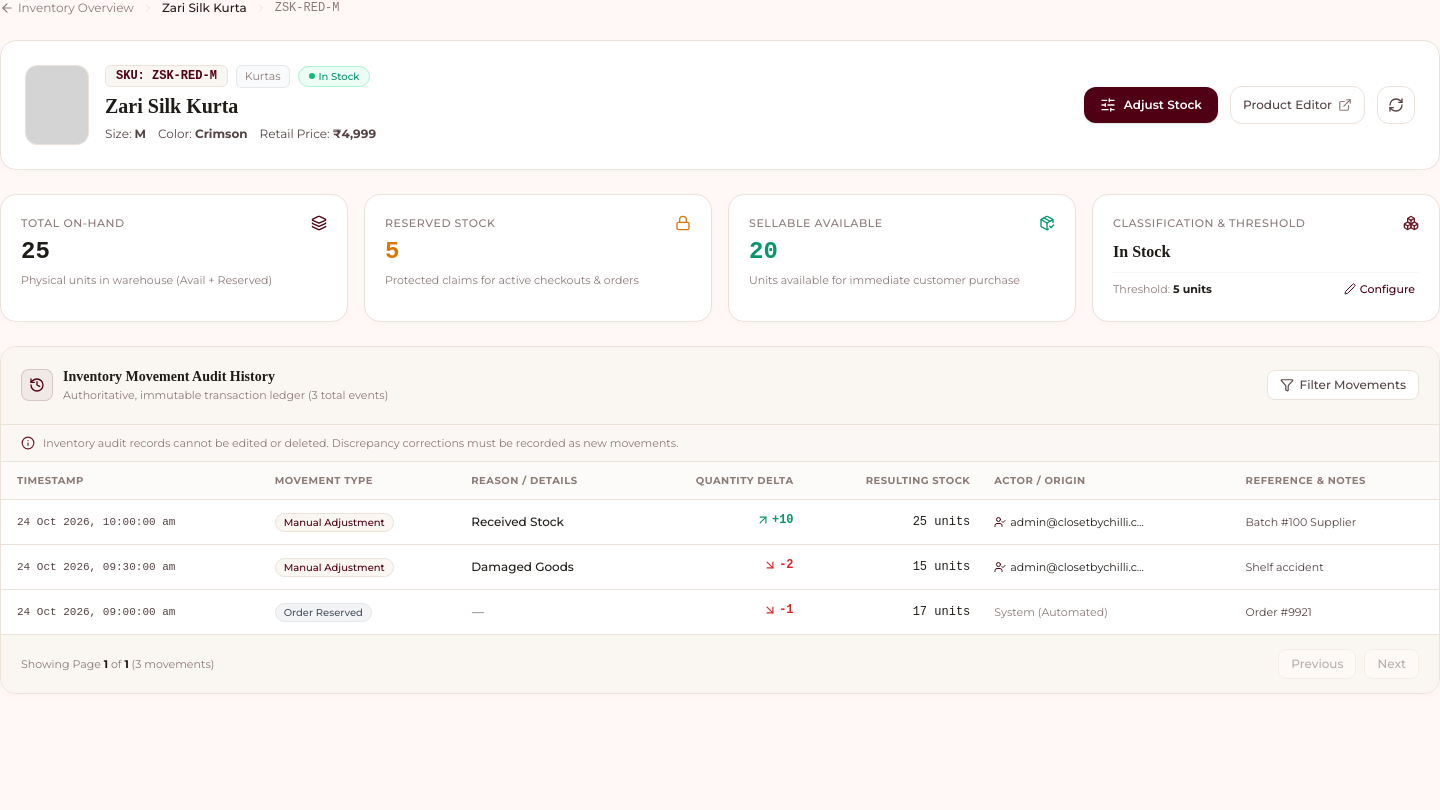
Test: AdminInventoryDetailClient & Stock Adjustment Flow › handles backend validation error and displays error message
Click the button "Adjust Stock" at (1151, 105), box [1084, 87, 1218, 123]
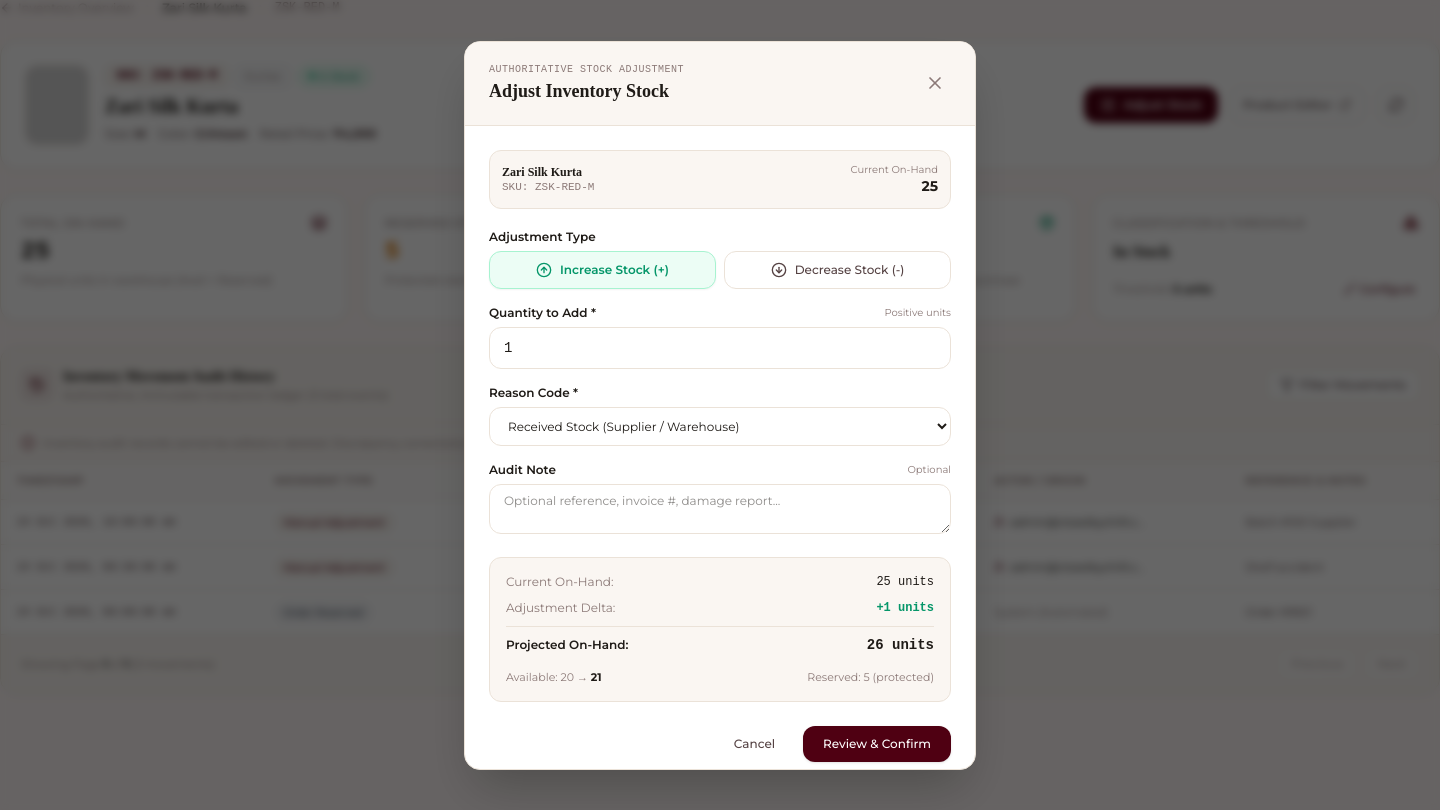
Replace the text in the number field labelled "Quantity to Add *" with "2" at (720, 348), box [489, 327, 951, 369]
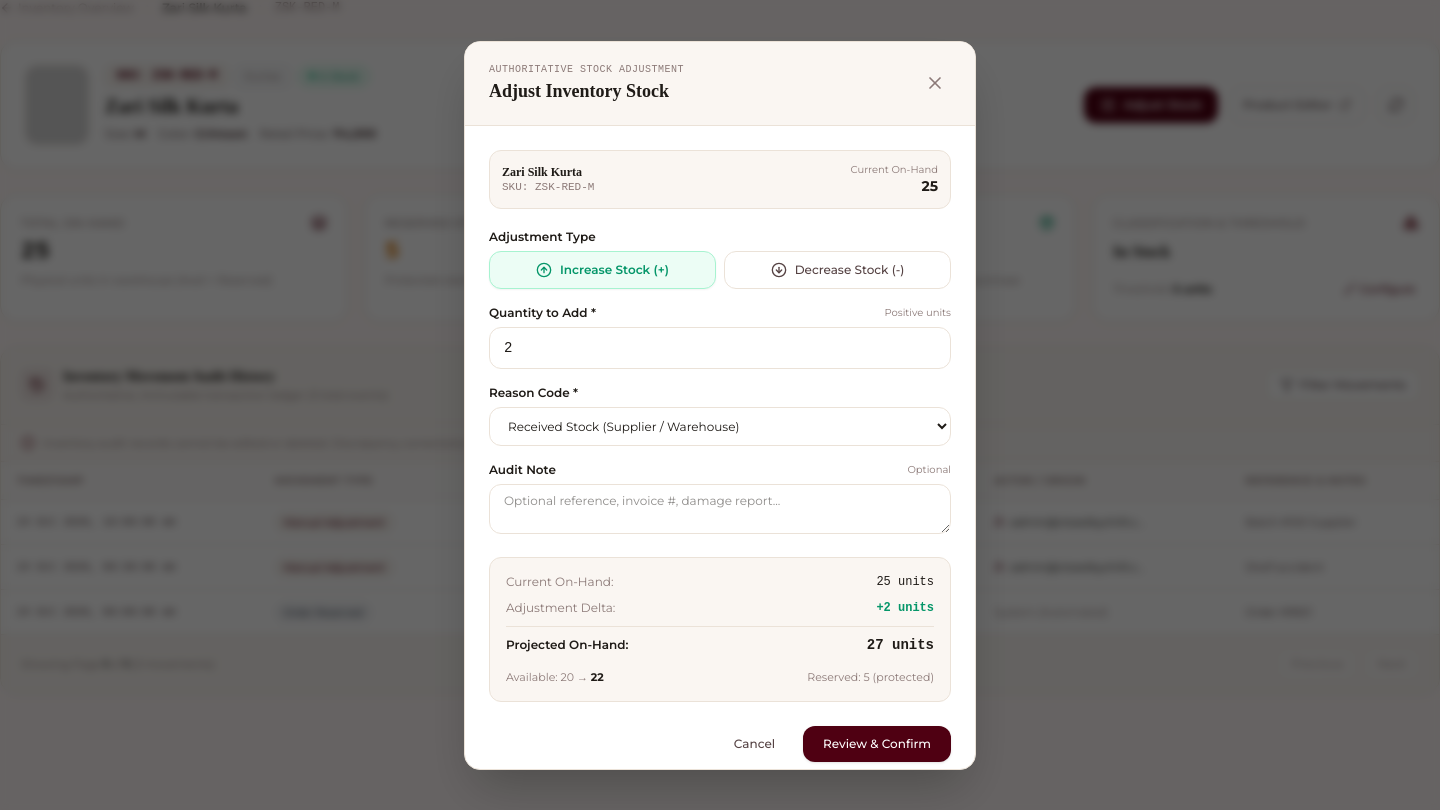
Click the button "Review & Confirm" at (877, 744), box [803, 726, 951, 762]
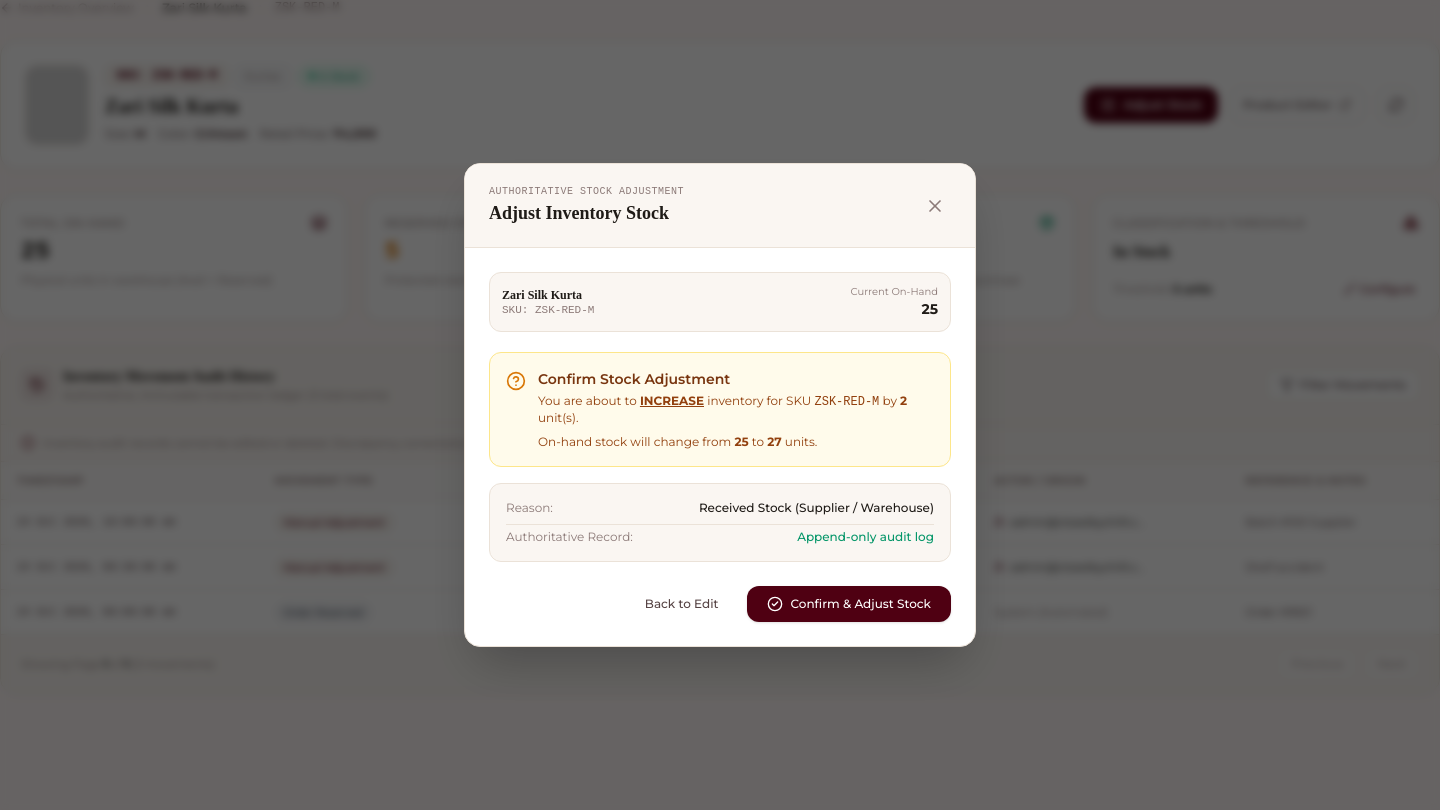
Click the button "Confirm & Adjust Stock" at (849, 604), box [746, 586, 951, 622]
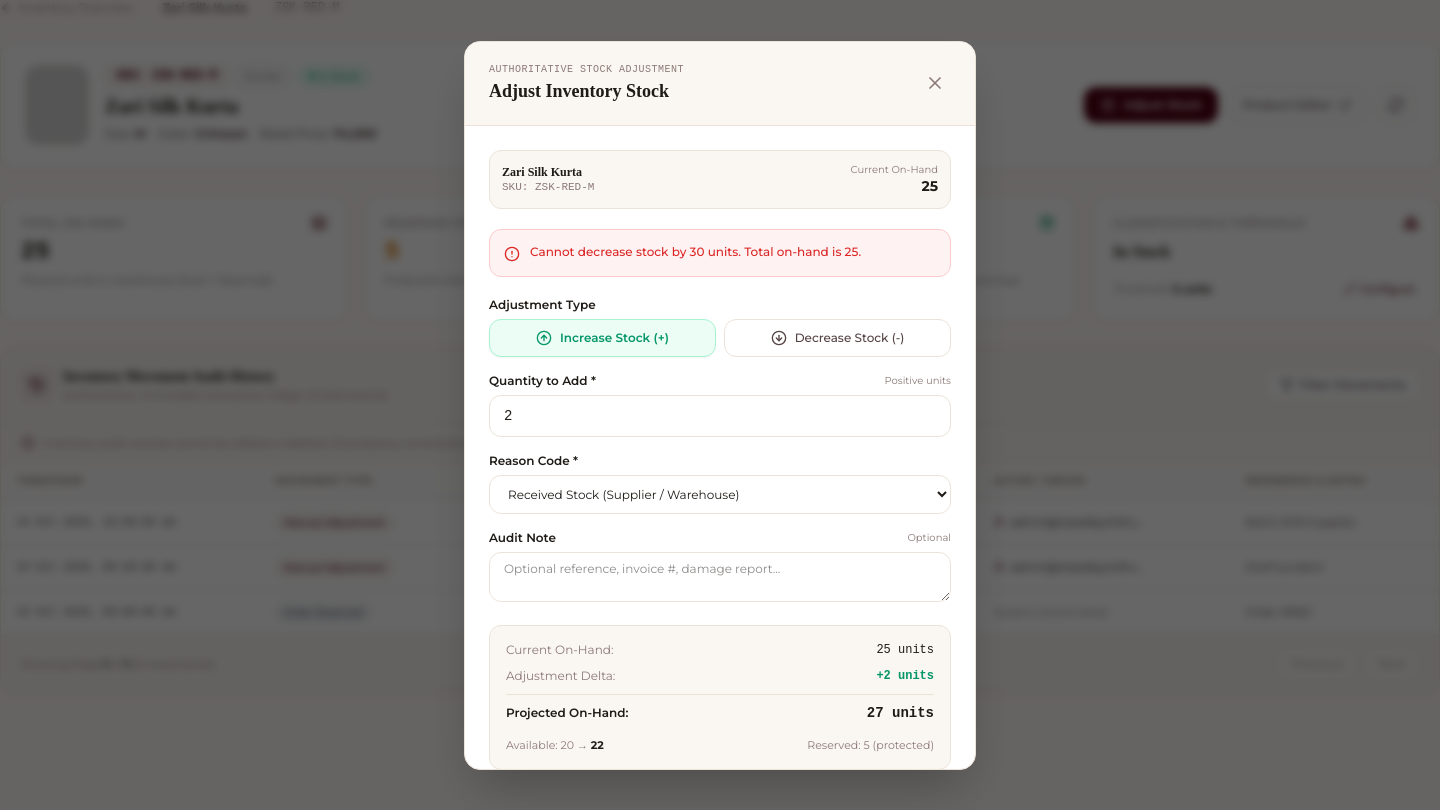
Now the text "Cannot decrease stock by 30 units. Total on-hand is 25." is shown, box [530, 244, 861, 259]
